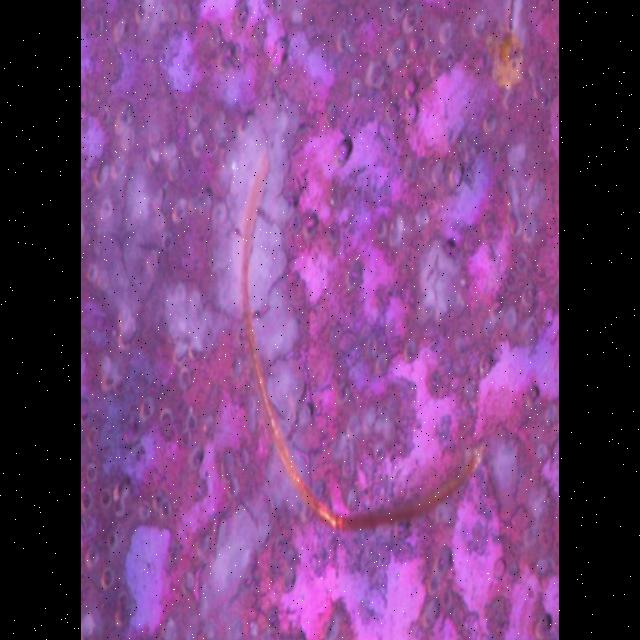Fibre: (237, 120, 488, 534)
